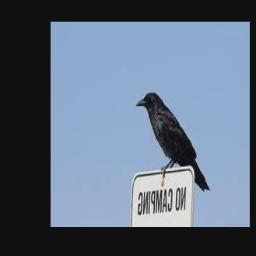Crow: (136, 91, 211, 191)
